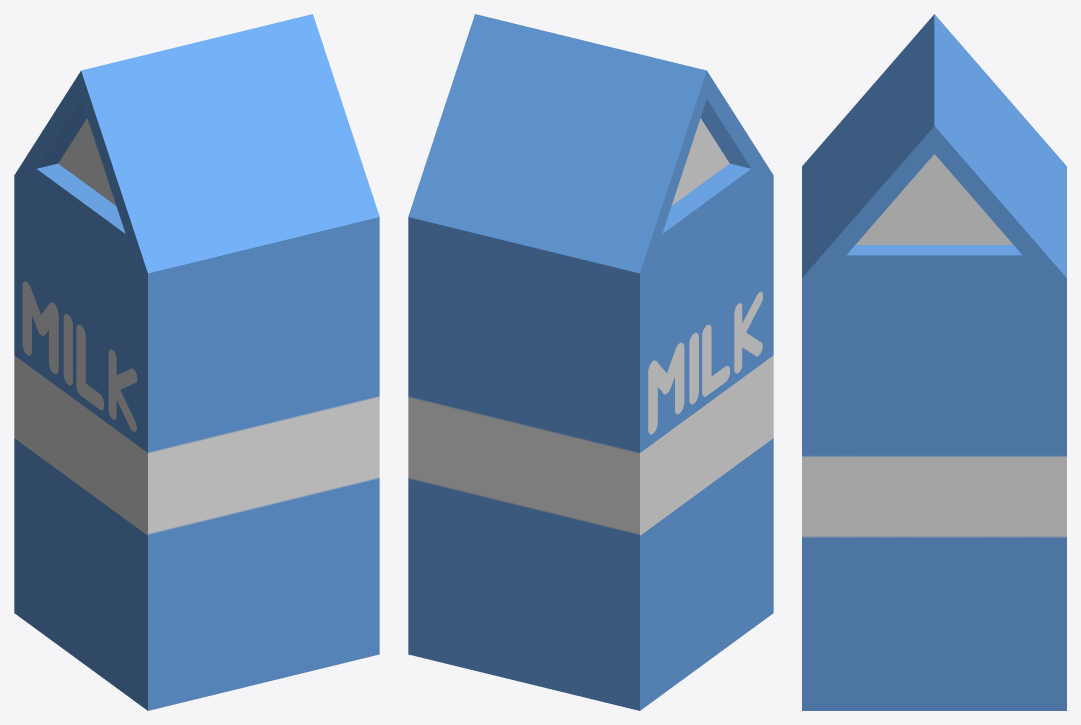
File: milk.gltf
3 renders of one model, left to right at view 1: azimuth 30°, elevation 25°; view 2: azimuth 150°, elevation 25°; view 3: azimuth 270°, elevation 25°, orthographic.
Visible parts, largest first — view 1: Cube; view 2: Cube; view 3: Cube.
Part boxes in pixels (x1,y1,x2,y2): Cube: [14, 14, 379, 710]; Cube: [408, 14, 773, 710]; Cube: [802, 14, 1066, 710].
Size of the model in its own units: 0.0792 by 0.193 by 0.0792.
1 material, 1 textured.
